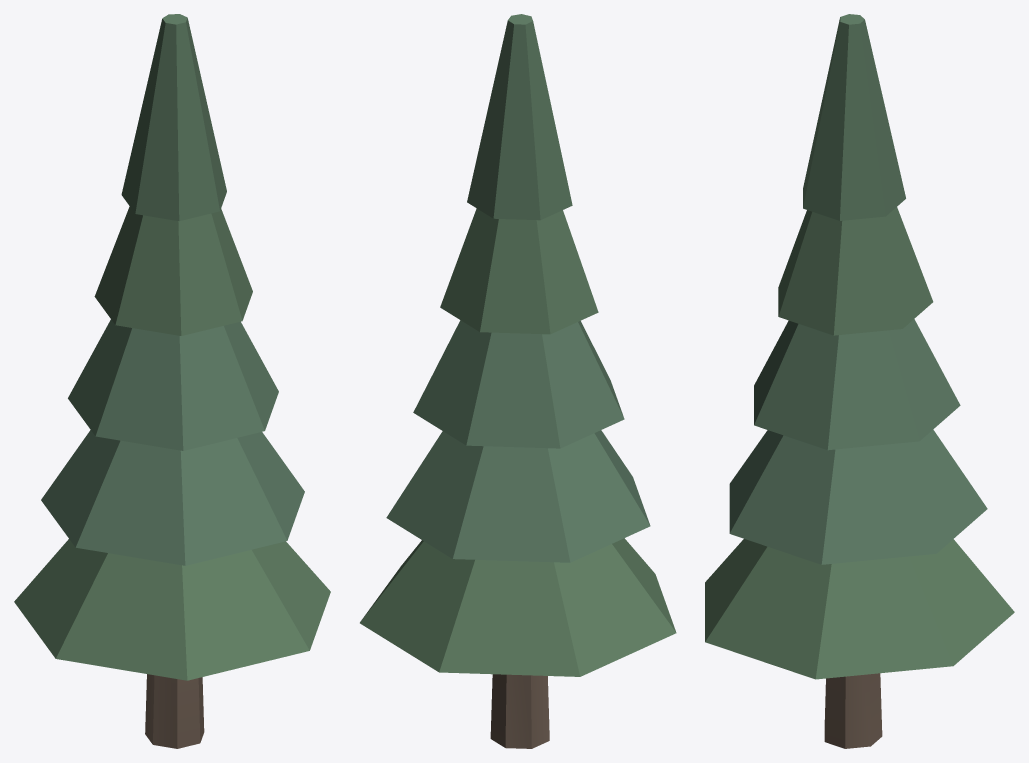
The model's file is Tree_Pine.fbx.
The picture shows the model from 3 angles, left to right: view 1: azimuth 30°, elevation 25°; view 2: azimuth 150°, elevation 25°; view 3: azimuth 270°, elevation 25°; orthographic projection.
Visible parts, largest first — view 1: Res_Tree_Pine; view 2: Res_Tree_Pine; view 3: Res_Tree_Pine.
Boxes of the visible parts, <box> form: Res_Tree_Pine: <box>14,14,330,748</box>; Res_Tree_Pine: <box>360,14,676,748</box>; Res_Tree_Pine: <box>705,14,1014,748</box>.
Bounding box in the file's own units: 2.92 × 7.28 × 2.85.
